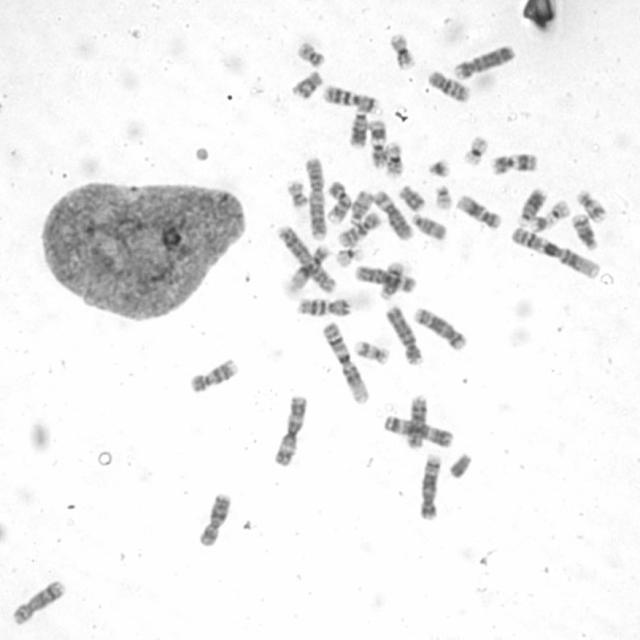A1: (512, 224, 602, 281), (322, 322, 371, 404)
A2: (276, 225, 338, 293), (303, 158, 328, 241)
A3: (272, 394, 310, 466), (382, 413, 456, 447)
B4: (385, 304, 424, 368), (452, 44, 516, 81)
B5: (414, 307, 467, 350), (417, 452, 442, 521)
C10: (336, 211, 382, 248), (428, 70, 472, 104)
C11: (491, 153, 539, 176), (366, 120, 388, 168)
C12: (286, 243, 331, 296), (455, 193, 503, 230)
C6: (372, 190, 415, 242), (353, 264, 418, 294)
C7: (321, 84, 379, 113), (297, 297, 352, 317)
C8: (10, 579, 68, 626), (405, 394, 428, 451)
C9: (187, 358, 239, 392), (326, 181, 352, 225)
D13: (516, 188, 548, 226), (349, 109, 368, 148)
D14: (379, 260, 406, 303), (572, 213, 598, 250)
D15: (411, 213, 449, 241), (349, 188, 374, 226)
E16: (389, 33, 416, 71), (386, 142, 404, 178)
E17: (575, 188, 608, 224), (354, 339, 389, 366)
E18: (290, 71, 325, 99), (398, 184, 427, 212)
F19: (460, 135, 489, 167), (336, 244, 364, 268)
F20: (295, 42, 327, 68), (284, 180, 309, 208)
G21: (528, 213, 550, 234), (427, 160, 451, 178)
G22: (546, 198, 571, 224), (434, 184, 453, 212)
X: (198, 492, 232, 547)
Y: (448, 451, 471, 479)
